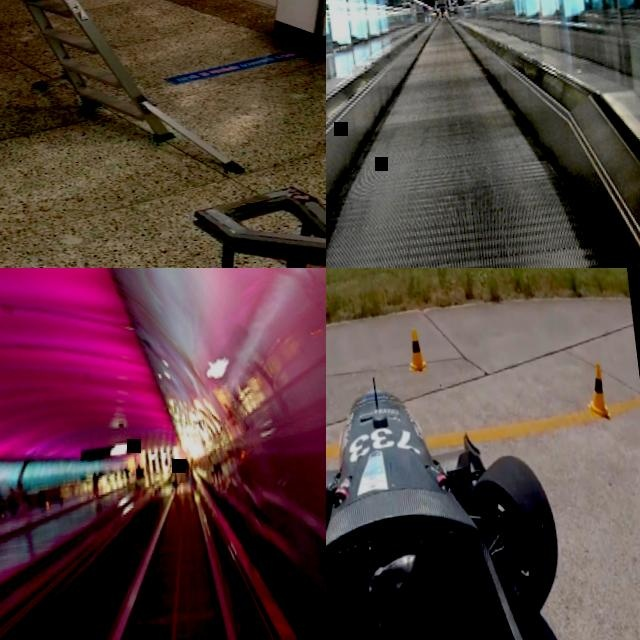Safety Cone: (580, 359, 613, 417), (403, 329, 430, 376)
vehicle: (326, 351, 584, 640)
